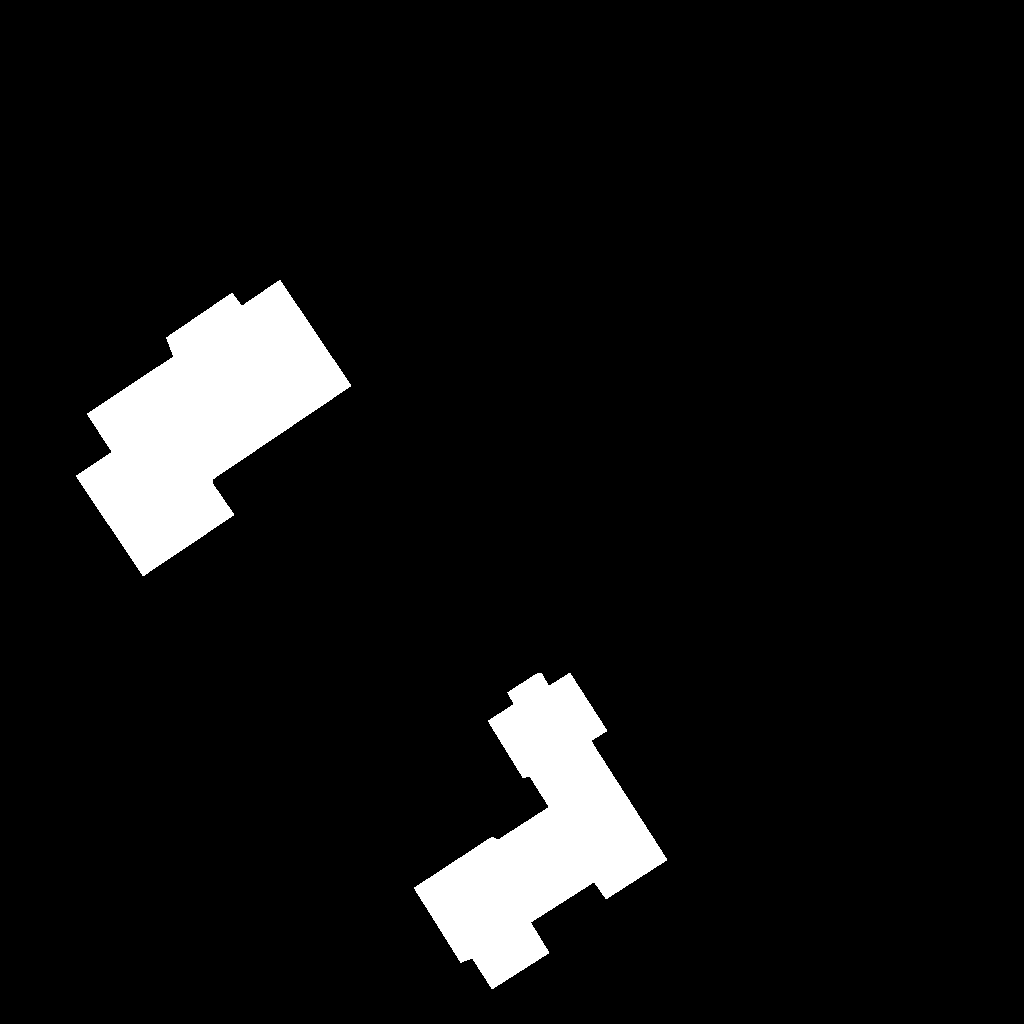building: (76, 280, 352, 577), (414, 672, 668, 990)
